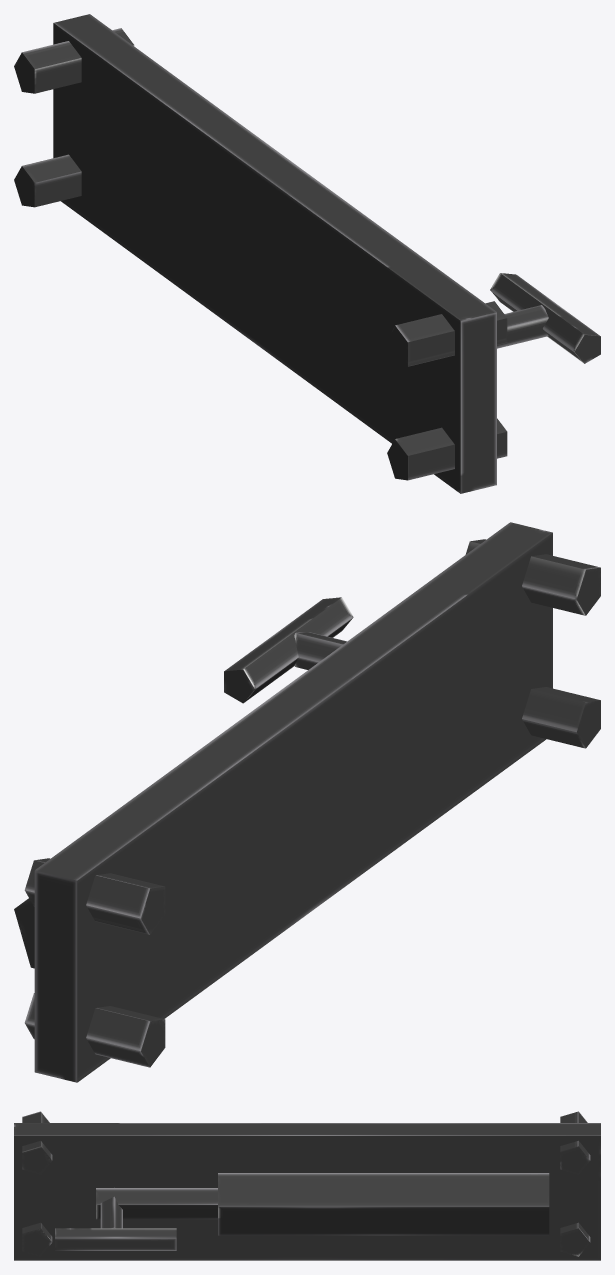
File: LockLatch_WT.fbx
3 views of the same model, one above another, from view 1: azimuth 30°, elevation 25°; view 2: azimuth 150°, elevation 25°; view 3: azimuth 270°, elevation 25° (orthographic). The views are drawn at different scales.
Visible parts, largest first — view 1: Cube.001; view 2: Cube.001; view 3: Cube.001.
Boxes of the visible parts, box(x1,y1,x2,y2) form: Cube.001: box(14, 14, 600, 493); Cube.001: box(14, 522, 600, 1082); Cube.001: box(14, 1111, 600, 1260).
Size of the model in its own units: 10.83 by 8.31 by 35.44.
1 material, 1 textured.
